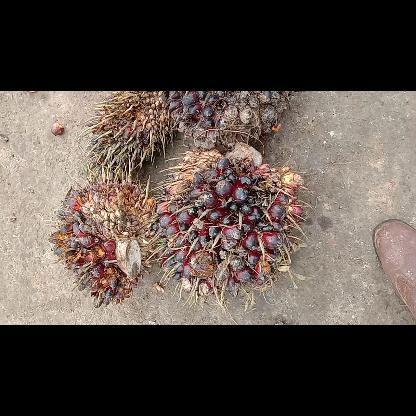Kurang masak: (152, 142, 306, 300), (163, 90, 285, 150)
TBS abnormal: (90, 92, 166, 176)
TBS masak: (52, 182, 150, 306)
